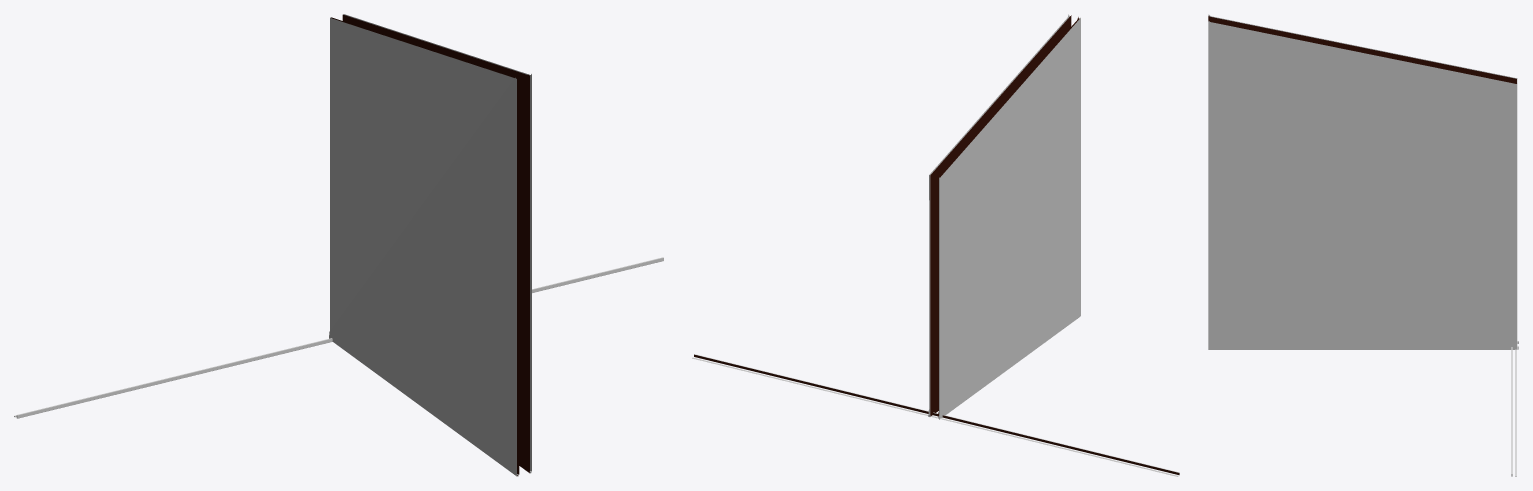
File: Construction_RocketLeague.fbx
3 views of the same model, side by side, from view 1: azimuth 30°, elevation 25°; view 2: azimuth 150°, elevation 25°; view 3: azimuth 270°, elevation 25° (orthographic). The views are drawn at different scales.
Parts seen in each view (by area): view 1: Construction_RocketLeague; view 2: Construction_RocketLeague; view 3: Construction_RocketLeague.
Part boxes in pixels (x1,y1,x2,y2): Construction_RocketLeague: [14, 14, 663, 476]; Construction_RocketLeague: [692, 14, 1179, 476]; Construction_RocketLeague: [1208, 14, 1518, 476].
Bounding box in the file's own units: 200 × 118 × 101.
